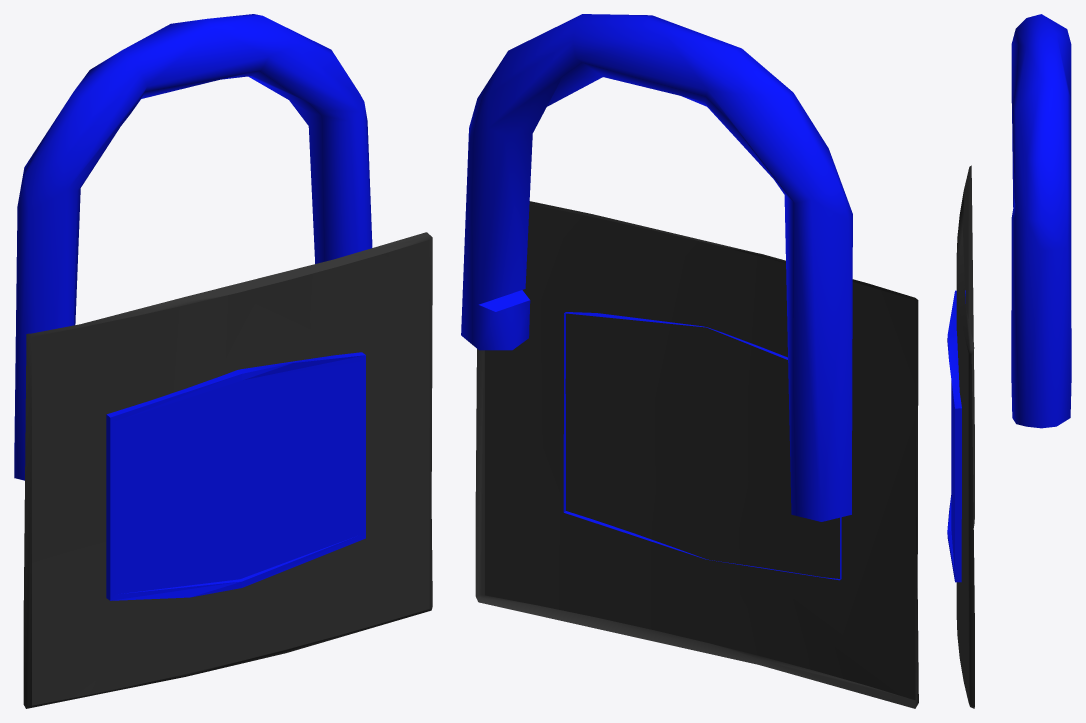
Rendered from LockLowPoly-Anim.FBX.
3 renders of one model, left to right at view 1: azimuth 30°, elevation 25°; view 2: azimuth 150°, elevation 25°; view 3: azimuth 270°, elevation 25°, orthographic. The views are drawn at different scales.
Visible parts, largest first — view 1: Box01, Rectangle03; view 2: Box01, Rectangle03; view 3: Rectangle03, Box01.
Boxes of the visible parts, x1,y1,x2,y2 form: Box01: (23,232,432,708); Rectangle03: (14,14,372,480); Box01: (475,201,918,708); Rectangle03: (461,14,852,521); Rectangle03: (1011,14,1071,428); Box01: (947,165,974,708).
Bounding box in the file's own units: 1.64 × 0.4559 × 2.35.
